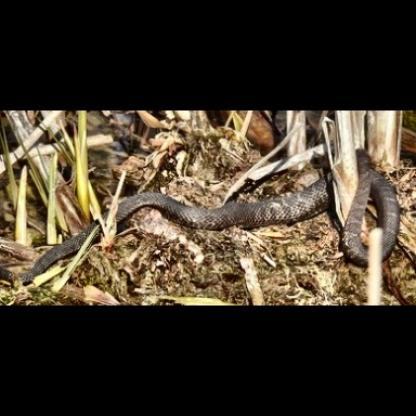Snake: (10, 150, 408, 266)
